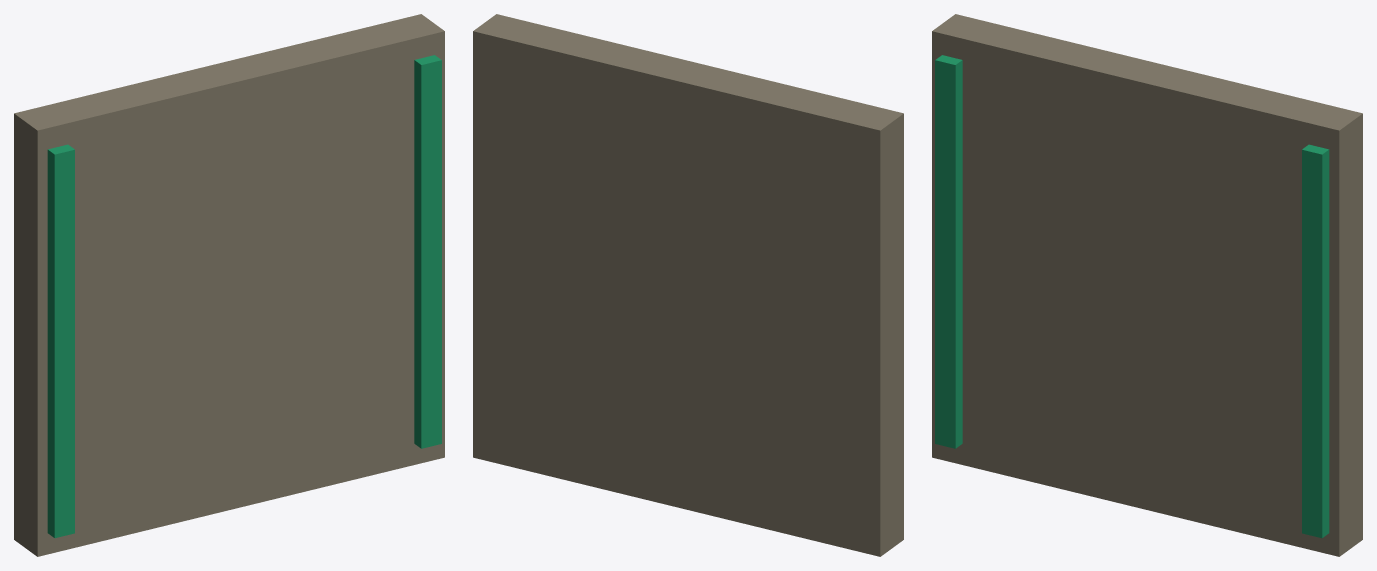
The model's file is SM_AEON_CheckpointPlinth.obj.
3 renders of one model, left to right at view 1: azimuth 30°, elevation 25°; view 2: azimuth 150°, elevation 25°; view 3: azimuth 330°, elevation 25°, orthographic.
Parts seen in each view (by area): view 1: SM_AEON_CheckpointPlinth; view 2: SM_AEON_CheckpointPlinth; view 3: SM_AEON_CheckpointPlinth.
Part boxes in pixels (left/top/right/bottom): SM_AEON_CheckpointPlinth: left=14, top=14, right=444, bottom=556; SM_AEON_CheckpointPlinth: left=473, top=14, right=903, bottom=556; SM_AEON_CheckpointPlinth: left=932, top=14, right=1362, bottom=556.
Size of the model in its own units: 200 by 200 by 26.
